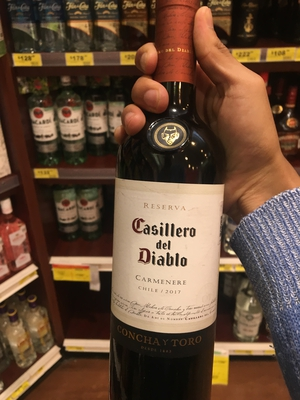casillero del diablo carmenere: (100, 14, 253, 387)
